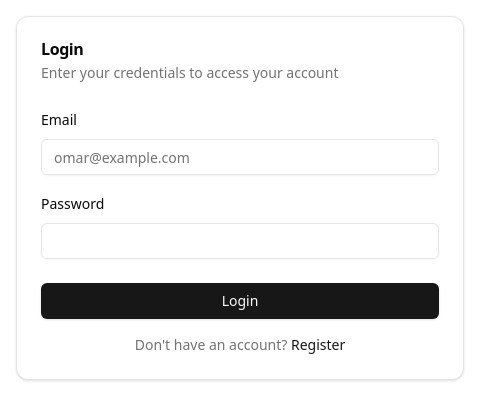
Test: LoginPage › shows loading state while submitting
Type "test@test.com" into the field labelled "Email".
click(240, 157); type("test@test.com")  # box [41,139,439,175]
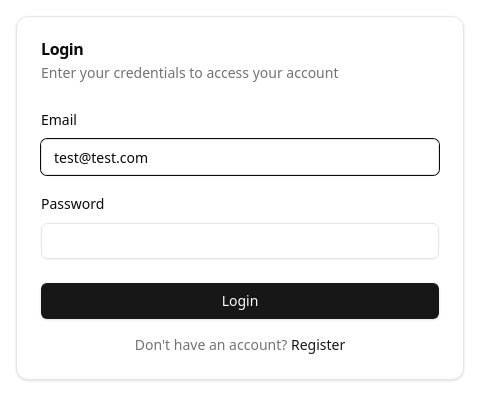
Type "password" into the password field labelled "Password".
click(240, 241); type("password")  # box [41,223,439,259]
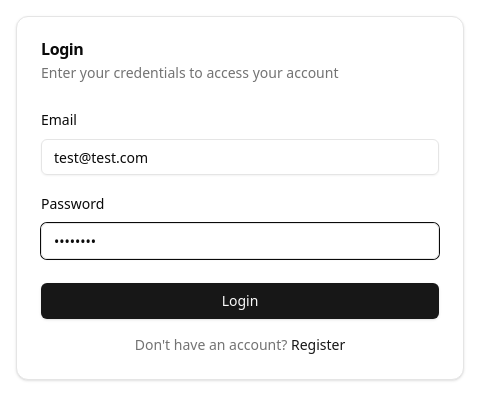
Click the button "Login".
click(240, 301)  # box [41,283,439,319]
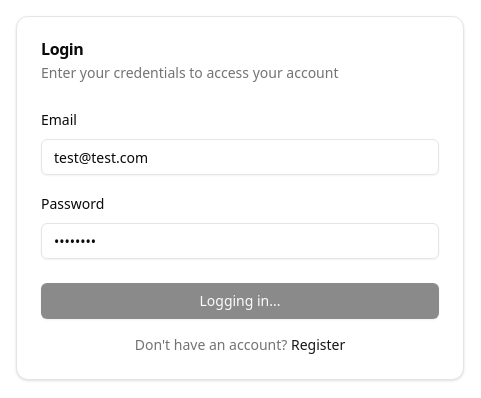
Now the button "Logging in..." is disabled, box [41,283,439,319]
